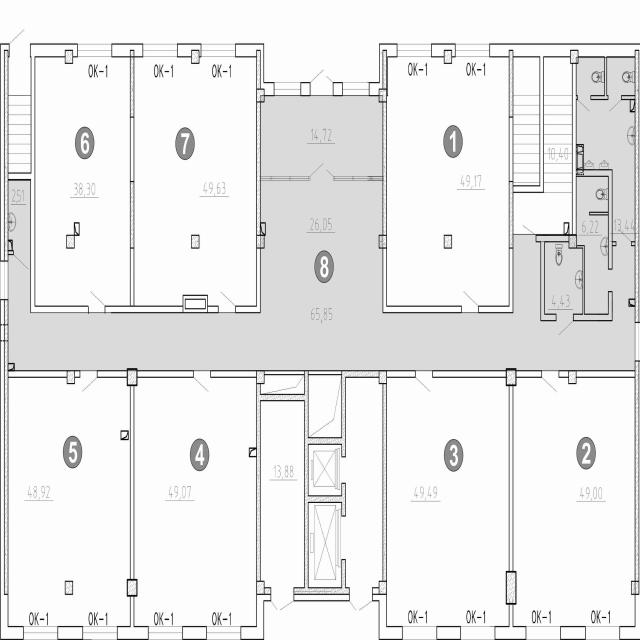Bathrooms: (577, 101, 635, 240), (576, 178, 608, 313), (546, 242, 582, 313), (577, 58, 604, 95), (607, 58, 634, 94)
Corridors: (9, 181, 634, 369), (262, 97, 383, 174), (261, 401, 304, 587), (346, 378, 382, 587), (264, 602, 379, 640)
Doors: (310, 66, 334, 97), (10, 28, 30, 57), (271, 588, 294, 613), (349, 588, 372, 613), (513, 219, 536, 243), (14, 238, 30, 272), (310, 160, 332, 182), (194, 370, 211, 394), (556, 314, 573, 338), (89, 289, 105, 314), (81, 370, 97, 395), (219, 289, 235, 313), (542, 370, 558, 394), (462, 289, 478, 313), (415, 371, 432, 393), (617, 227, 631, 246), (578, 94, 590, 113), (609, 95, 621, 112), (608, 270, 613, 290)
LBwalls: (619, 59, 640, 639), (1, 299, 23, 639), (489, 42, 640, 58), (236, 43, 274, 96), (0, 42, 8, 261), (371, 587, 403, 639), (369, 42, 398, 96), (241, 588, 271, 640), (30, 42, 77, 58), (294, 588, 349, 601), (112, 42, 144, 57), (495, 625, 526, 640), (117, 625, 148, 640), (431, 42, 456, 58), (506, 570, 517, 605), (58, 625, 83, 640), (560, 625, 586, 639), (177, 43, 201, 58), (182, 625, 206, 639), (437, 625, 460, 639), (126, 368, 138, 386), (506, 368, 516, 387), (127, 579, 137, 597), (332, 81, 342, 95), (66, 234, 75, 249), (256, 88, 265, 103), (65, 49, 74, 64), (191, 49, 200, 64), (443, 50, 452, 65), (570, 49, 579, 64), (631, 580, 640, 595), (379, 234, 387, 250), (301, 81, 310, 95), (256, 370, 265, 384), (65, 580, 73, 595), (191, 234, 199, 249), (379, 88, 387, 103), (569, 234, 577, 249), (444, 234, 452, 249), (67, 370, 75, 384), (257, 235, 265, 249), (569, 371, 577, 385), (379, 371, 387, 384), (8, 239, 14, 255), (379, 582, 386, 595), (257, 581, 264, 594)
Offices: (387, 378, 509, 626), (513, 377, 634, 626), (135, 59, 256, 305), (135, 379, 256, 623), (388, 58, 508, 304), (9, 379, 130, 622), (36, 59, 130, 305)
Stairs: (513, 58, 572, 234), (514, 59, 539, 185), (9, 57, 31, 173)
Walls: (105, 57, 219, 313), (432, 370, 542, 627), (97, 370, 194, 625), (535, 58, 617, 321), (382, 50, 462, 314), (9, 57, 88, 314), (260, 375, 346, 587), (478, 50, 514, 314), (235, 97, 261, 313), (513, 57, 544, 193), (210, 370, 415, 378), (256, 378, 261, 581), (383, 379, 387, 581), (590, 58, 609, 100), (559, 370, 635, 378), (8, 370, 81, 378), (332, 174, 383, 181), (261, 176, 311, 183), (341, 559, 346, 587), (621, 95, 634, 100), (631, 241, 635, 246), (577, 95, 577, 100)
Windows: (23, 625, 58, 640), (206, 625, 241, 640), (201, 43, 236, 58), (83, 625, 117, 640), (148, 625, 182, 640), (77, 42, 111, 57), (143, 43, 177, 58), (460, 626, 495, 640), (402, 626, 436, 640), (526, 626, 560, 640), (586, 626, 620, 640), (455, 44, 490, 57), (397, 44, 431, 57), (274, 81, 301, 95), (343, 82, 369, 96), (0, 262, 8, 299), (635, 323, 640, 361)
